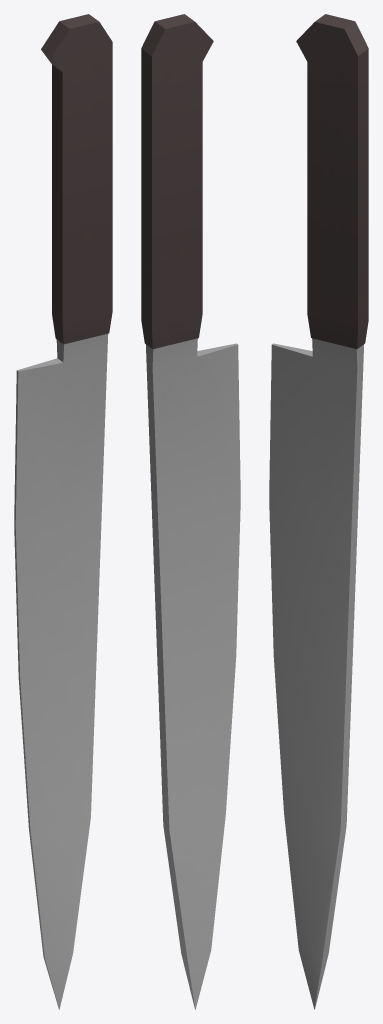
File: Knife_F.fbx
3 views of the same model, side by side, from view 1: azimuth 30°, elevation 25°; view 2: azimuth 210°, elevation 25°; view 3: azimuth 330°, elevation 25° (orthographic).
Visible parts, largest first — view 1: Kit_1_Knife_F; view 2: Kit_1_Knife_F; view 3: Kit_1_Knife_F.
Part boxes in pixels (x1,y1,x2,y2): Kit_1_Knife_F: (14, 14, 112, 1009); Kit_1_Knife_F: (141, 14, 240, 1009); Kit_1_Knife_F: (269, 14, 368, 1009).
Bounding box in the file's own units: 3.16 × 32.12 × 0.6279.
